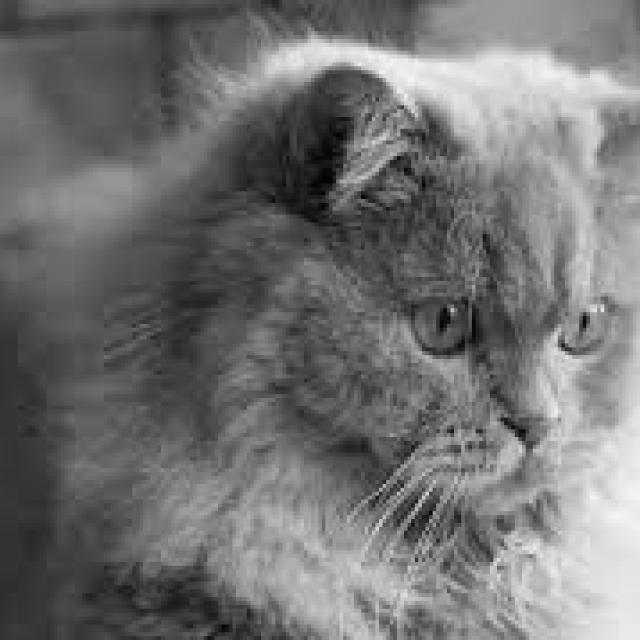british: (218, 19, 640, 538)
